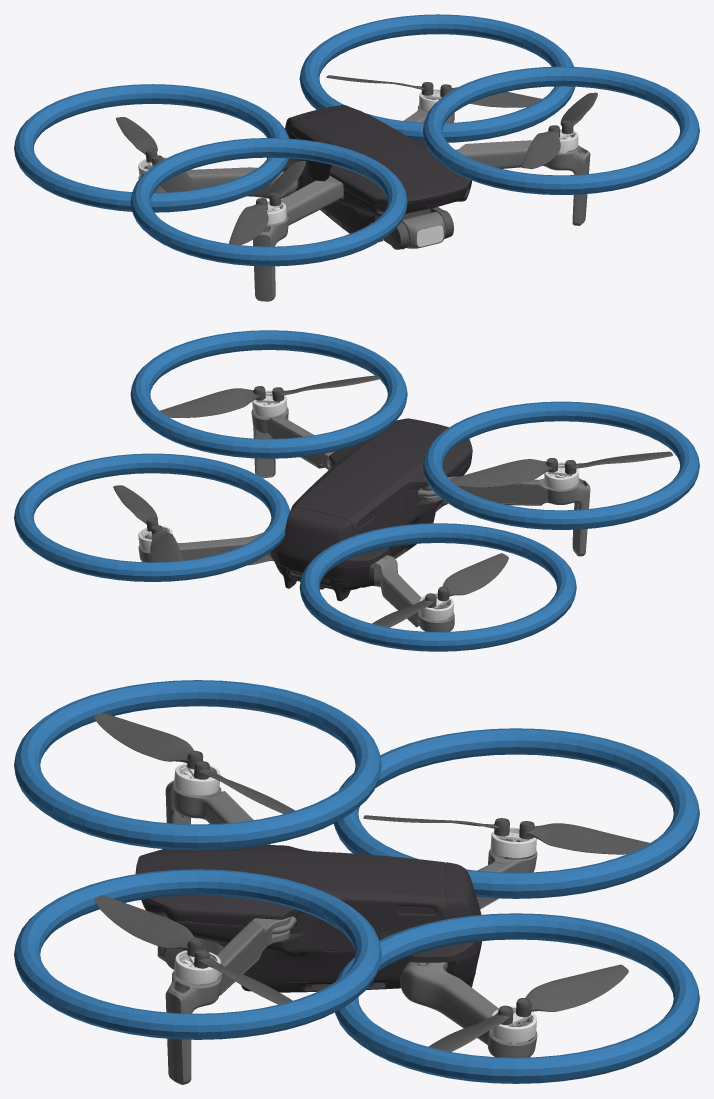
Rendered from DJI_Mavic_blue.glb.
3 renders of one model, top to bottom at view 1: azimuth 30°, elevation 25°; view 2: azimuth 150°, elevation 25°; view 3: azimuth 270°, elevation 25°, orthographic. The views are drawn at different scales.
Parts seen in each view (by area): view 1: Torus.001, Torus.002, Torus.003, Body, Torus, Front Right arm, Front Left arm, Rear Right arm, dji_mini_2_open.015, dji_mini_2_open.016, dji_mini_2_open.027, Camera gimbal (+7 smaller); view 2: Body, Torus.001, Torus.003, Torus.002, Torus, Front Right arm, Rear Right arm, dji_mini_2_open.019, Front Left arm, dji_mini_2_open.017, dji_mini_2_open.043, Rear Left arm (+8 smaller); view 3: Body, Torus.002, Torus.001, Torus, Torus.003, Front Left arm, Rear Left arm, dji_mini_2_open.079, dji_mini_2_open.016, dji_mini_2_open.015, dji_mini_2_open.042, Front Right arm (+9 smaller).
Boxes of the visible parts, x1,y1,x2,y2 form: Torus.001: (423,66,699,194); Torus.002: (130,138,407,266); Torus.003: (14,84,288,212); Body: (267,105,471,241); Torus: (299,14,575,142); Front Right arm: (253,175,343,301); Front Left arm: (455,140,590,225); Rear Right arm: (138,165,297,198); dji_mini_2_open.015: (229,198,268,245); dji_mini_2_open.016: (521,125,560,169); dji_mini_2_open.027: (440,84,541,107); Camera gimbal: (383,207,453,249); Body: (270,418,472,601); Torus.001: (130,330,407,458); Torus.003: (299,523,576,651); Torus.002: (423,401,699,529); Torus: (14,453,289,581); Front Right arm: (418,476,590,556); Rear Right arm: (371,555,454,631); dji_mini_2_open.019: (450,458,557,487); Front Left arm: (251,407,334,478); dji_mini_2_open.017: (160,386,265,417); dji_mini_2_open.043: (437,553,508,601); Rear Left arm: (138,532,273,565); Body: (135,845,482,992); Torus.002: (14,680,381,850); Torus.001: (14,869,381,1039); Torus: (335,913,699,1083); Torus.003: (334,728,699,898); Front Left arm: (165,916,296,1084); Rear Left arm: (400,961,537,1057); dji_mini_2_open.079: (516,964,628,1017); dji_mini_2_open.016: (94,895,203,956); dji_mini_2_open.015: (94,712,203,769); dji_mini_2_open.042: (519,821,649,854); Front Right arm: (165,780,270,844).
Bounding box in the file's own units: 0.3205 × 0.0573 × 0.2695.
